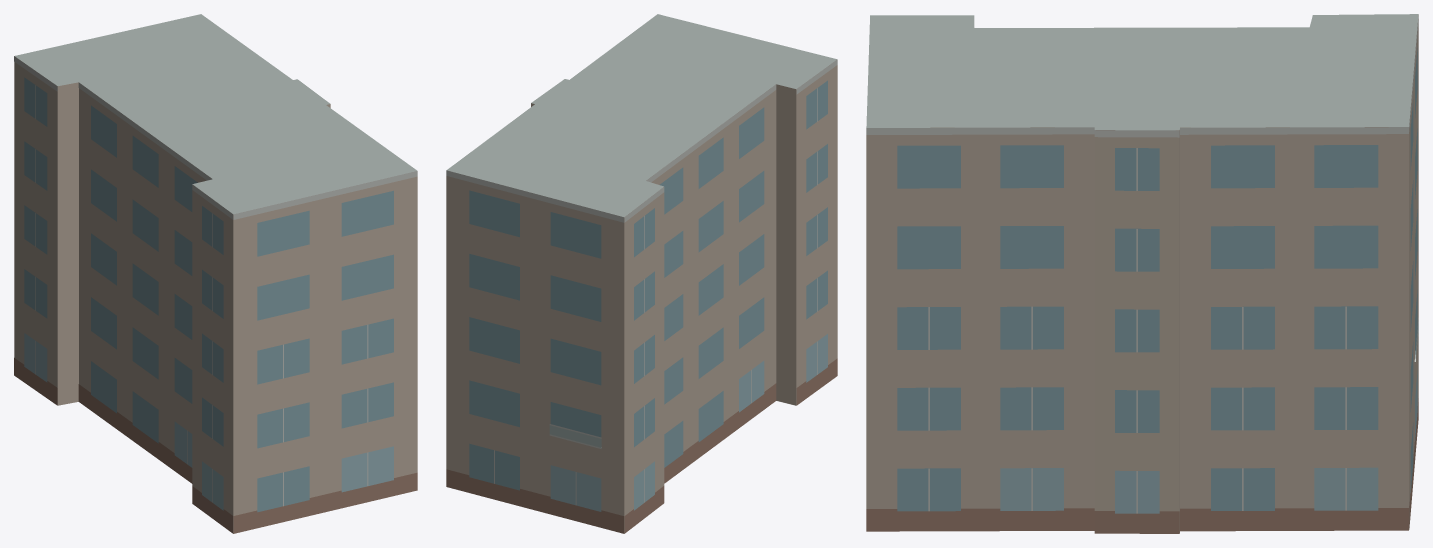
The model's file is survey-upis-33008839.glb.
3 views of the same model, side by side, from view 1: azimuth 30°, elevation 25°; view 2: azimuth 150°, elevation 25°; view 3: azimuth 270°, elevation 25° (orthographic). The views are drawn at different scales.
Parts seen in each view (by area): view 1: survey-upis-33008839.tmp; view 2: survey-upis-33008839.tmp; view 3: survey-upis-33008839.tmp.
Part boxes in pixels (<box>): survey-upis-33008839.tmp: <box>14,14,417,533</box>; survey-upis-33008839.tmp: <box>446,14,837,533</box>; survey-upis-33008839.tmp: <box>866,14,1418,533</box>.
Bounding box in the file's own units: 8.58 × 13.85 × 17.19.
